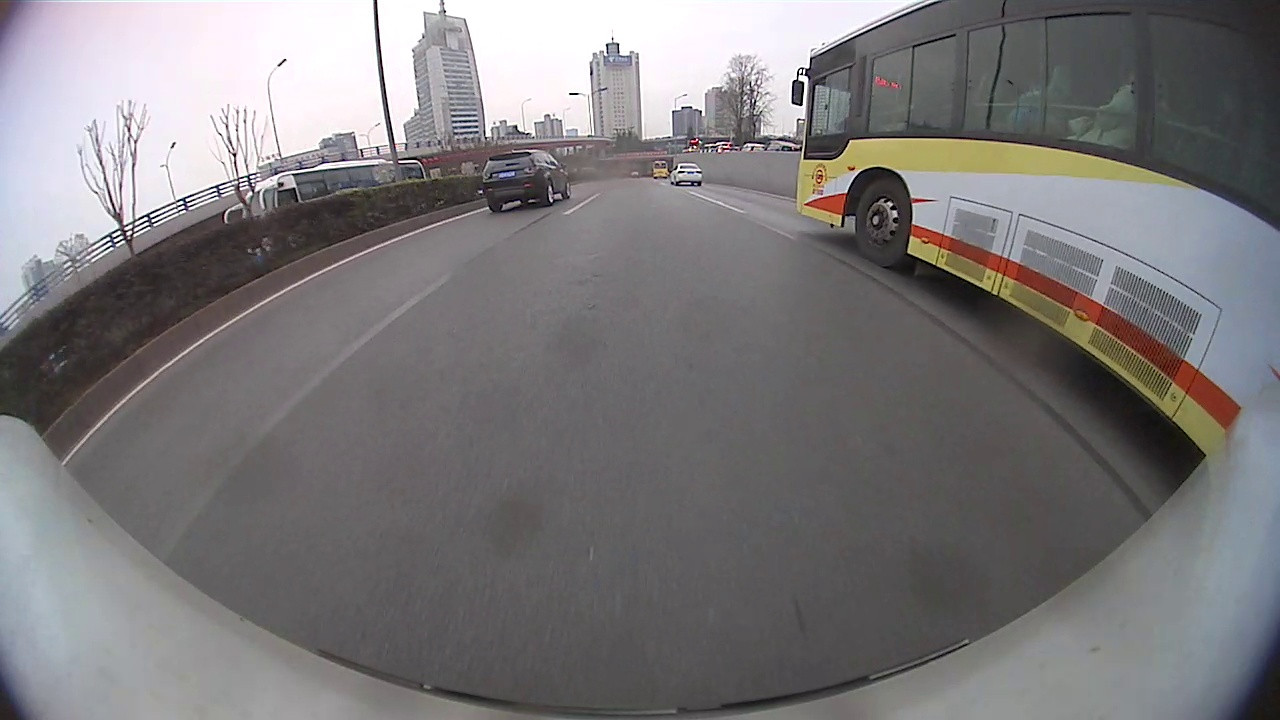bus: (788, 1, 1279, 457), (222, 157, 430, 263)
car: (478, 146, 574, 216), (668, 160, 706, 188)
front: (853, 177, 909, 267)
rear: (544, 182, 558, 209), (546, 185, 555, 208)
